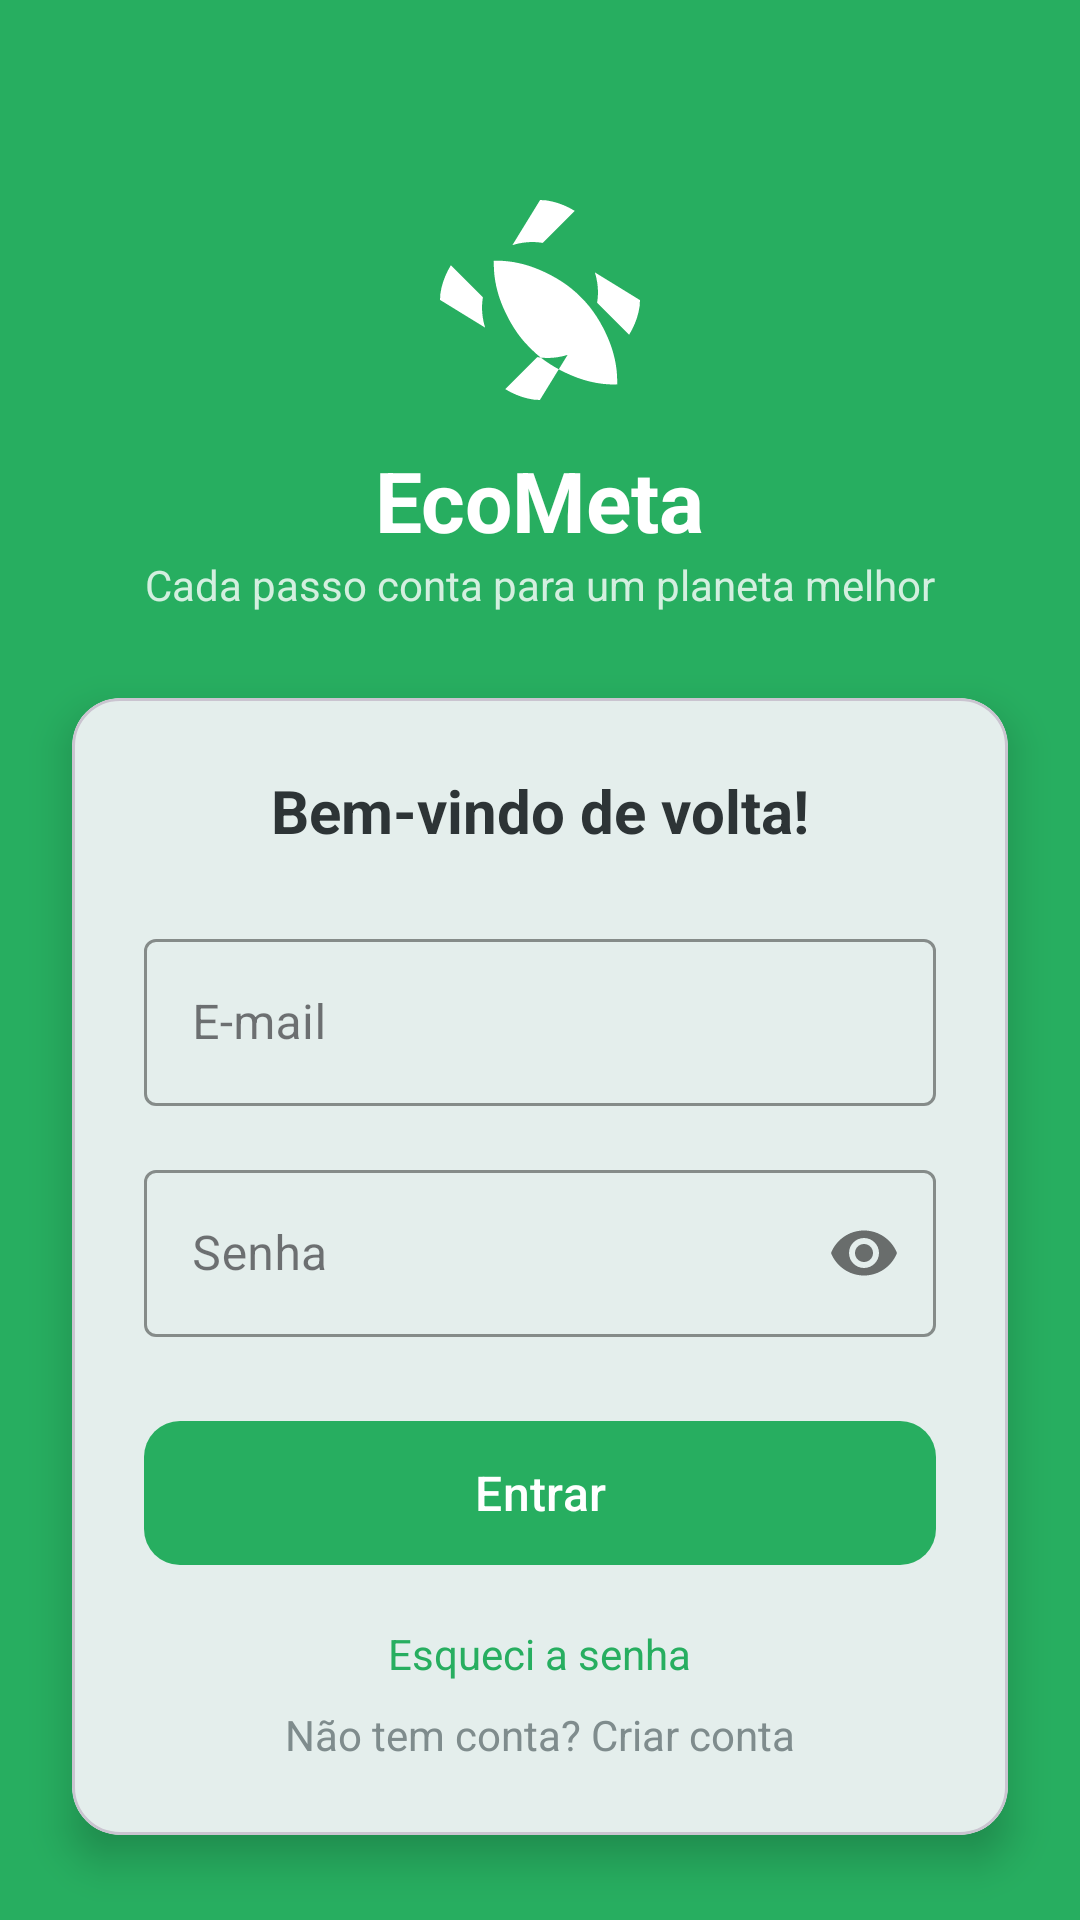

Named icons in this screenshot (1080*1920) and their centers, [x,y]:
eco: [540,300]
